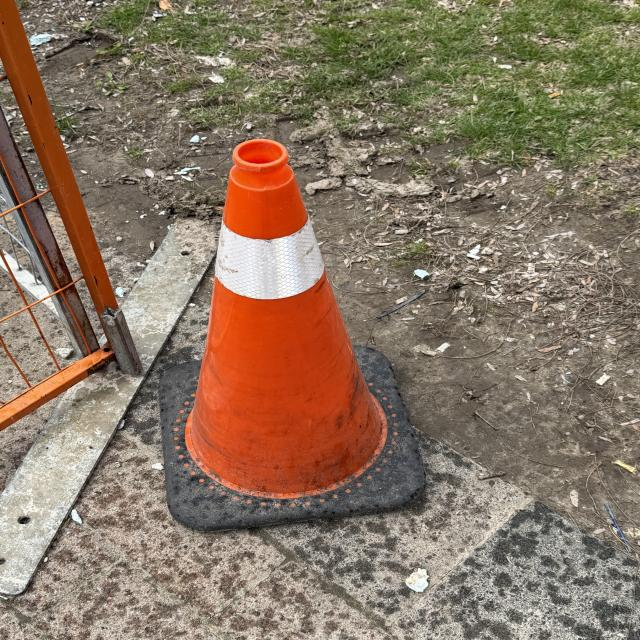Traffic Cone: (158, 138, 428, 535)
